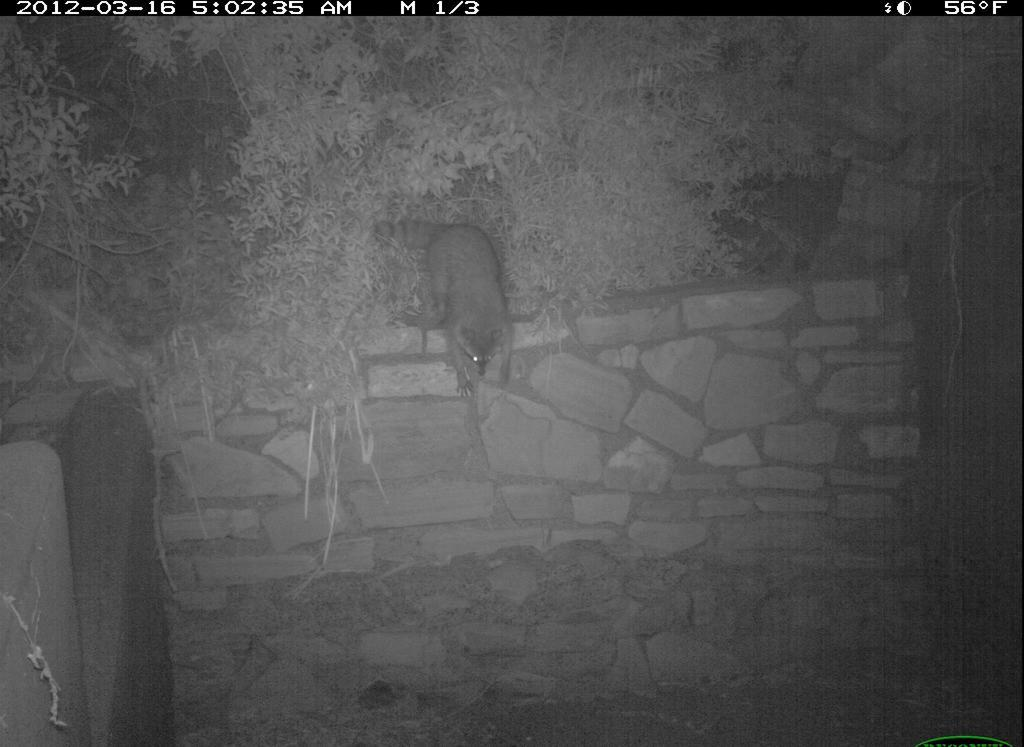raccoon: (344, 205, 546, 405)
